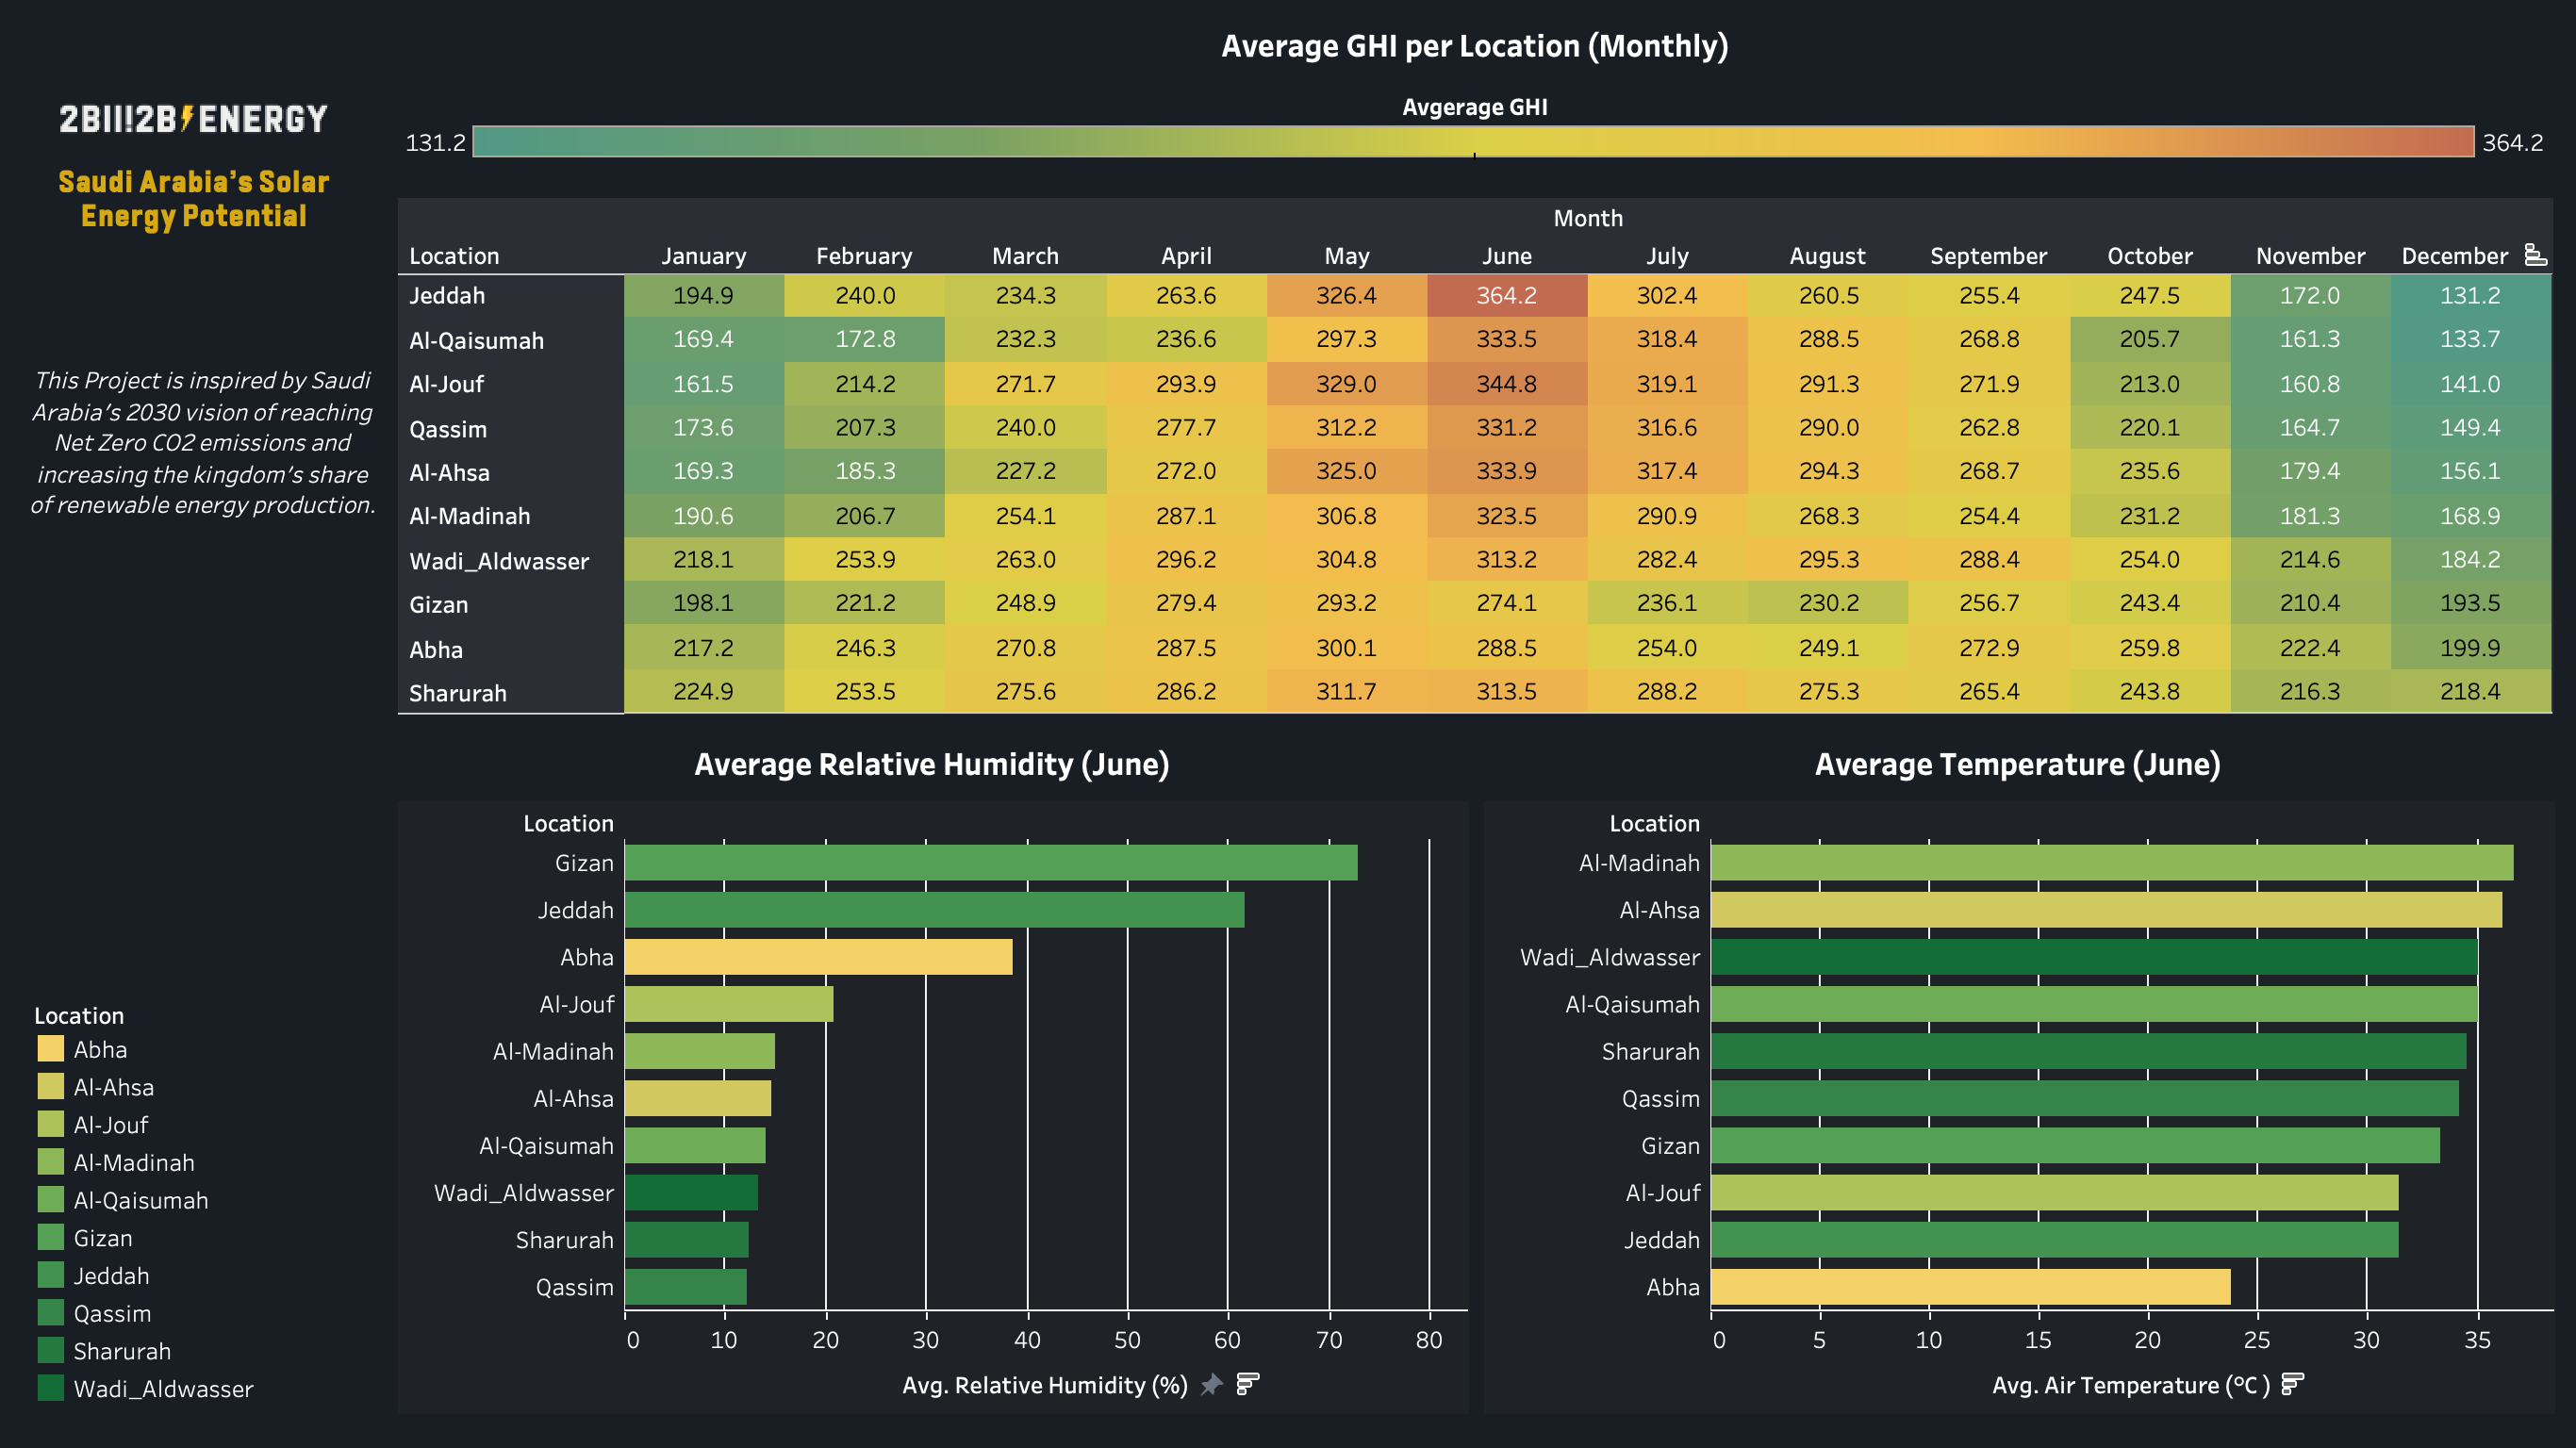

This screenshot's page, from the dashboard's own definition file:
{"tool":"tableau","page":{"name":"Analysis","canvas":[1366,768],"ordinal":0},"visuals":[{"type":"text","box":[8,8,199,455]},{"type":"text","box":[207,8,1151,32]},{"type":"image","param":"/Users/hawra/Downloads/Picture1.png","box":[19,30,179,71]},{"type":"legend","title":"GHI heatmap","param":"[federated.0xb4gsf1oel52s19rxay40suwxwp].[avg:ghi_derived:qk]","box":[207,40,1151,61]},{"type":"text","box":[26,75,154,62]},{"type":"worksheet","title":"GHI heatmap","mark":"Square","rows":["location"],"cols":["Calculation_1375286796096311299"],"box":[207,101,1151,283]},{"type":"worksheet","title":"Avg. Humidity (June)","mark":"Automatic","rows":["location"],"cols":["humidity"],"box":[207,384,575.5,376]},{"type":"worksheet","title":"Avg. Temperature (June)","mark":"Automatic","rows":["location"],"cols":["air_temperature"],"box":[782.5,384,575.5,376]},{"type":"blank","box":[8,463,199,297]},{"type":"legend","title":"Avg. Humidity (June)","param":"[federated.0xb4gsf1oel52s19rxay40suwxwp].[none:location:nk]","box":[17,528,157,223]}]}

Visuals, with their boxes in screenshot pixels (x1, y1, x2, y2), scaled from the page's 1366x768 canvas onto the 2576x1448 screenshot:
text: select_region(15, 15, 390, 873)
text: select_region(390, 15, 2561, 75)
image: select_region(36, 57, 373, 190)
"GHI heatmap" legend: select_region(390, 75, 2561, 190)
text: select_region(49, 141, 339, 258)
"GHI heatmap" worksheet (Square marks): select_region(390, 190, 2561, 724)
"Avg. Humidity (June)" worksheet: select_region(390, 724, 1476, 1433)
"Avg. Temperature (June)" worksheet: select_region(1476, 724, 2561, 1433)
blank: select_region(15, 873, 390, 1433)
"Avg. Humidity (June)" legend: select_region(32, 995, 328, 1416)
